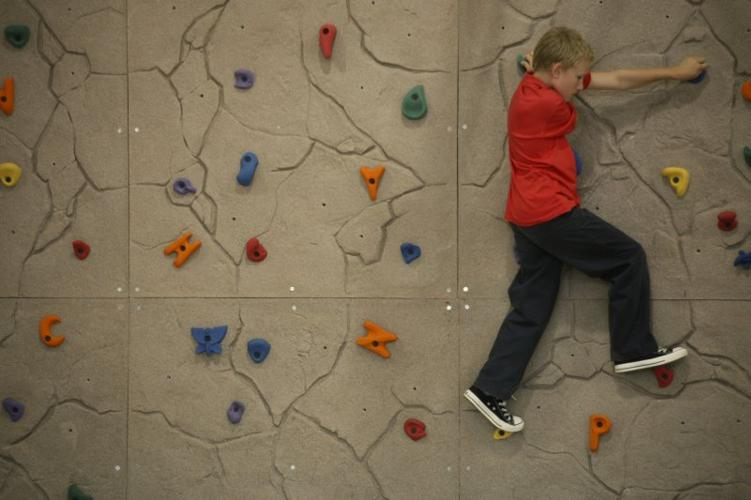person: (464, 26, 714, 435)
